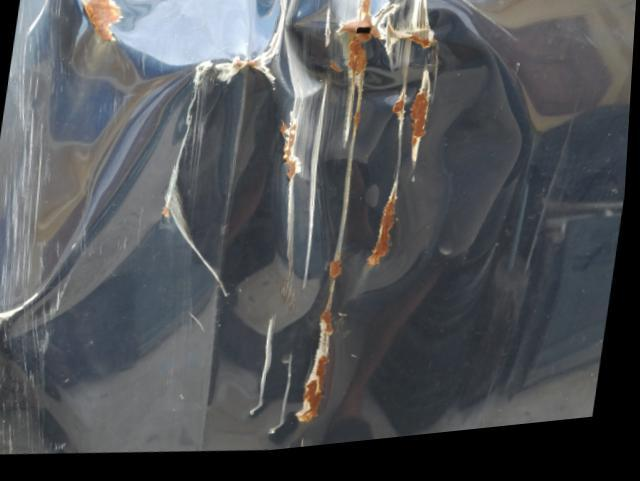scratch: (0, 239, 90, 454)
